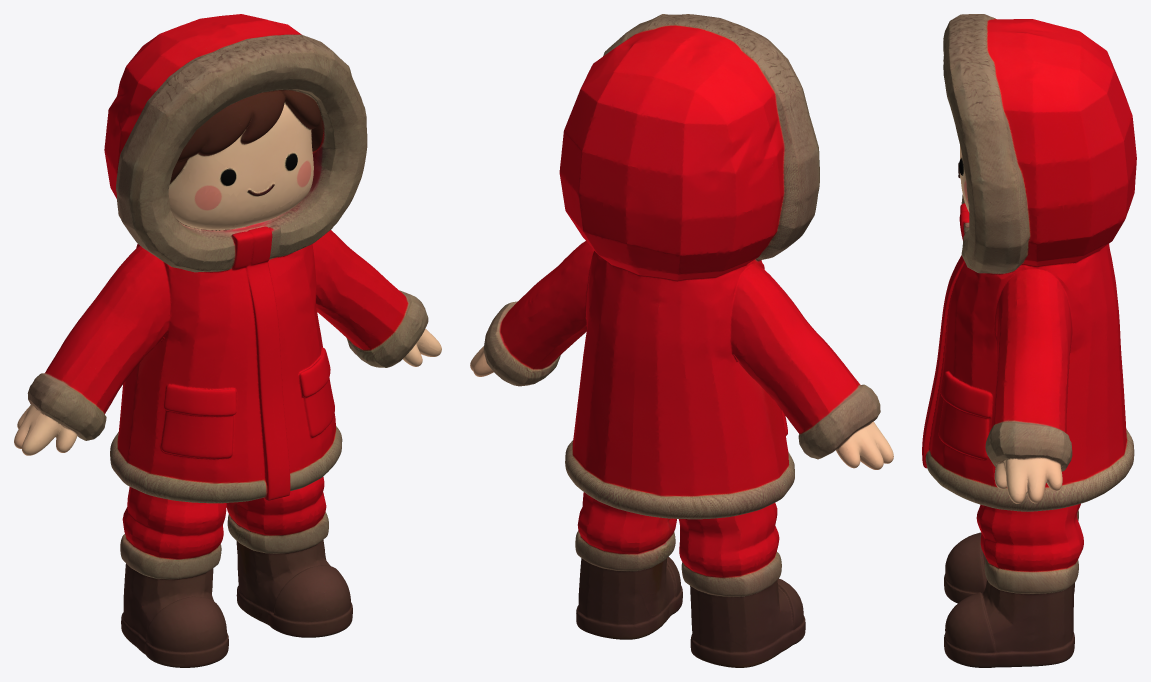
File: character_model.glb
The picture shows the model from 3 angles, left to right: view 1: azimuth 30°, elevation 25°; view 2: azimuth 150°, elevation 25°; view 3: azimuth 270°, elevation 25°; orthographic projection.
Bounding box in the file's own units: 1.39 × 1.9 × 0.626.
Materials: 1 (1 with a texture image).
